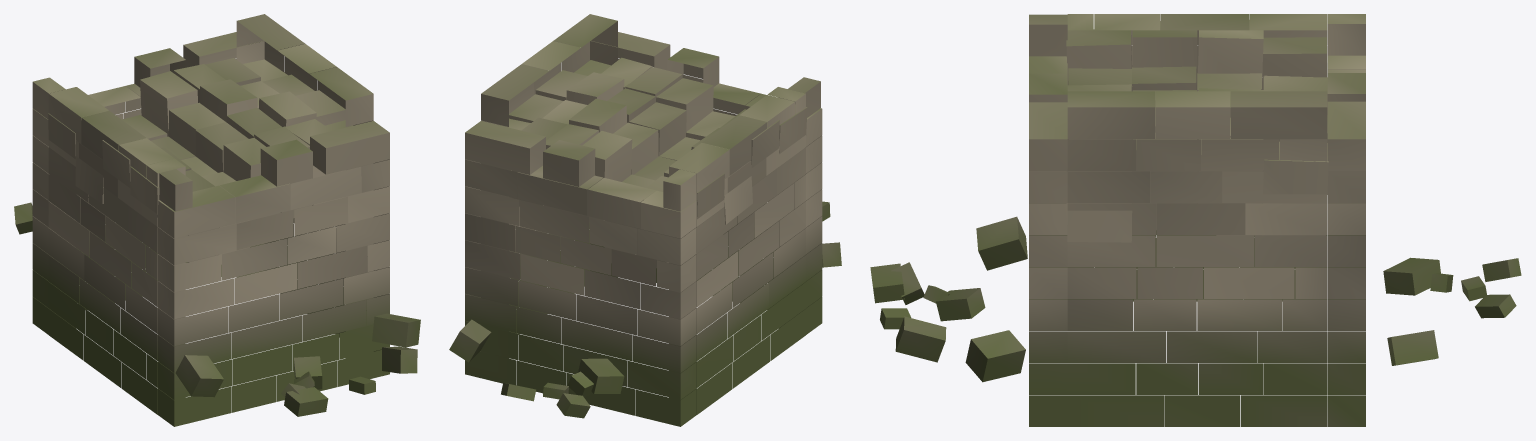
Rendered from citadel_wall_low_mid.glb.
The picture shows the model from 3 angles, left to right: view 1: azimuth 30°, elevation 25°; view 2: azimuth 150°, elevation 25°; view 3: azimuth 270°, elevation 25°; orthographic projection. The views are drawn at different scales.
Parts seen in each view (by area): view 1: citadel_wall_low_mid; view 2: citadel_wall_low_mid; view 3: citadel_wall_low_mid.
Boxes of the visible parts, x1,y1,x2,y2 form: citadel_wall_low_mid: (14, 14, 420, 426); citadel_wall_low_mid: (449, 14, 841, 426); citadel_wall_low_mid: (870, 14, 1521, 426).
Size of the model in its own units: 19.75 by 21.97 by 40.58.
